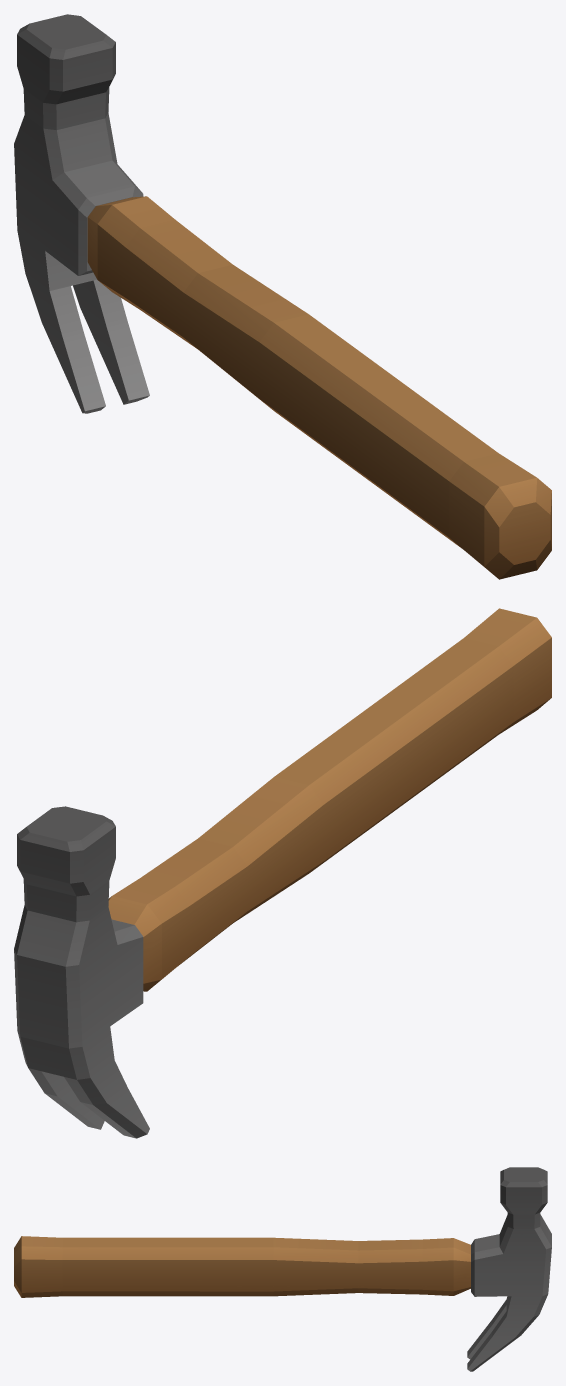
The model's file is hammer.fbx.
3 renders of one model, top to bottom at view 1: azimuth 30°, elevation 25°; view 2: azimuth 150°, elevation 25°; view 3: azimuth 270°, elevation 25°, orthographic. The views are drawn at different scales.
Parts seen in each view (by area): view 1: Hammer_Head_Tools_Mat_0; view 2: Hammer_Head_Tools_Mat_0; view 3: Hammer_Head_Tools_Mat_0.
Boxes of the visible parts, left/top/right/bottom form: Hammer_Head_Tools_Mat_0: left=14, top=14, right=551, bottom=579; Hammer_Head_Tools_Mat_0: left=14, top=608, right=551, bottom=1138; Hammer_Head_Tools_Mat_0: left=14, top=1167, right=551, bottom=1371.
Bounding box in the file's own units: 236 × 1143 × 2929.
1 material, 1 textured.
